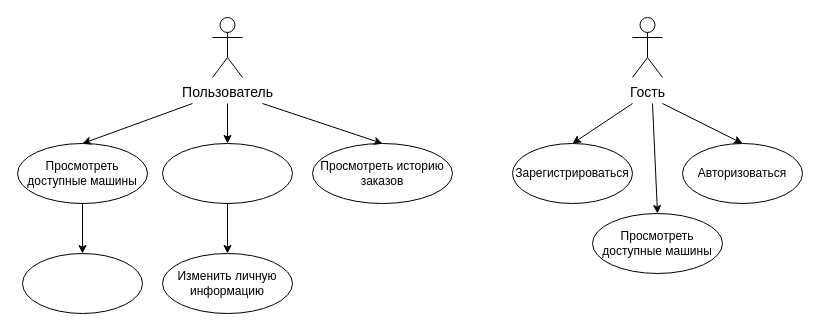
Some shapes in this 820 by 331 pixel diagram are drawn without their labels. The shapes that lost their labels are listed below. From the top down, each one's centre as x and y in pixels, then its label:
the point at 227,173: Просмотреть личную информацию
the point at 82,283: Сделать заказ
